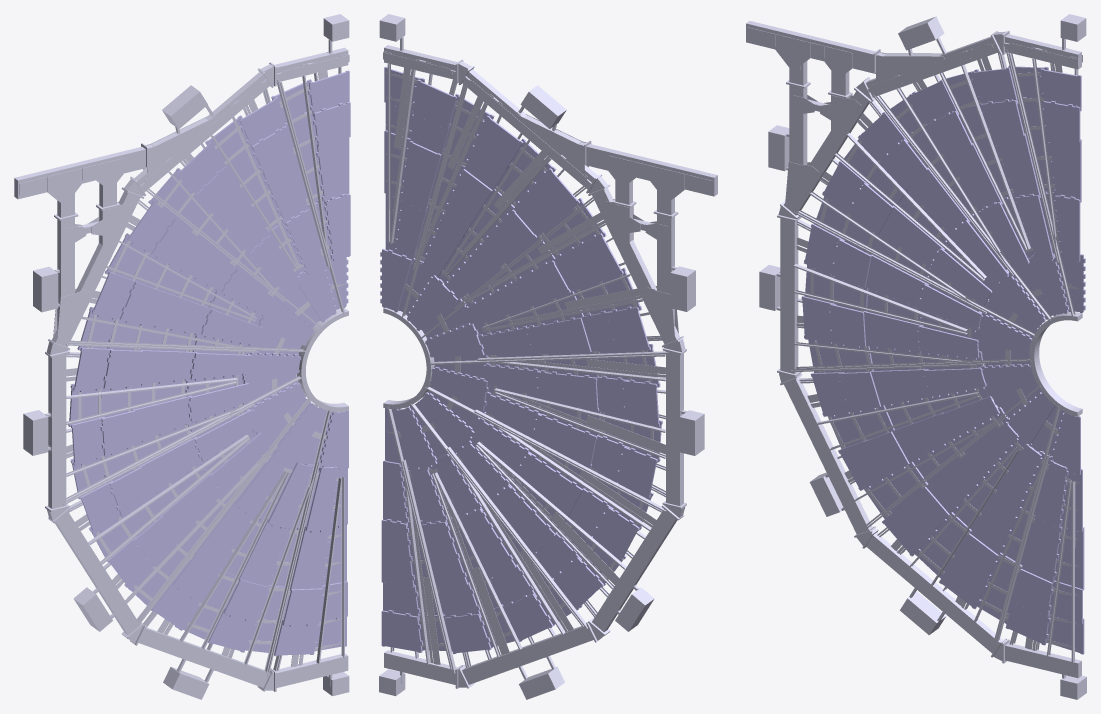
File: TGC2-SideA-cut2.glb
3 views of the same model, side by side, from view 1: azimuth 30°, elevation 25°; view 2: azimuth 150°, elevation 25°; view 3: azimuth 330°, elevation 25° (orthographic).
Parts seen in each view (by area): view 1: null; view 2: null; view 3: null.
Part boxes in pixels (left/top/right/bottom): null: left=14, top=14, right=350, bottom=699; null: left=379, top=14, right=717, bottom=699; null: left=746, top=14, right=1086, bottom=699.
Bounding box in the file's own units: 12.98 × 24.98 × 0.6611.
